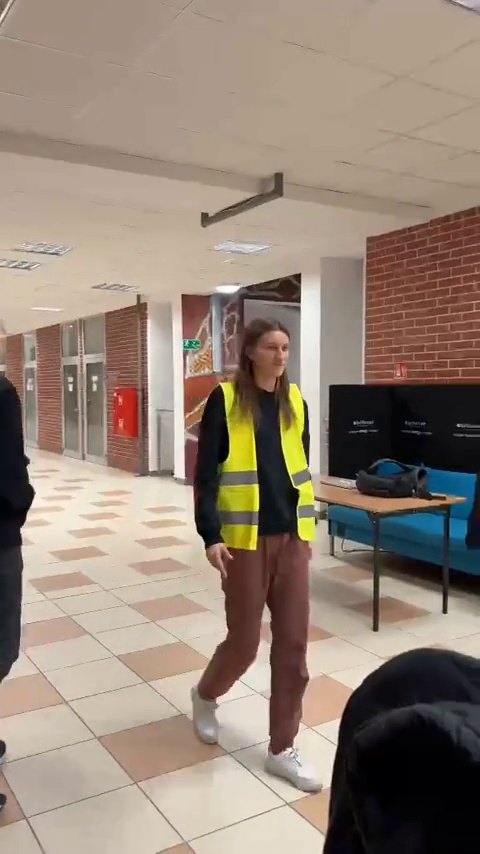vest: (192, 319, 323, 800)
